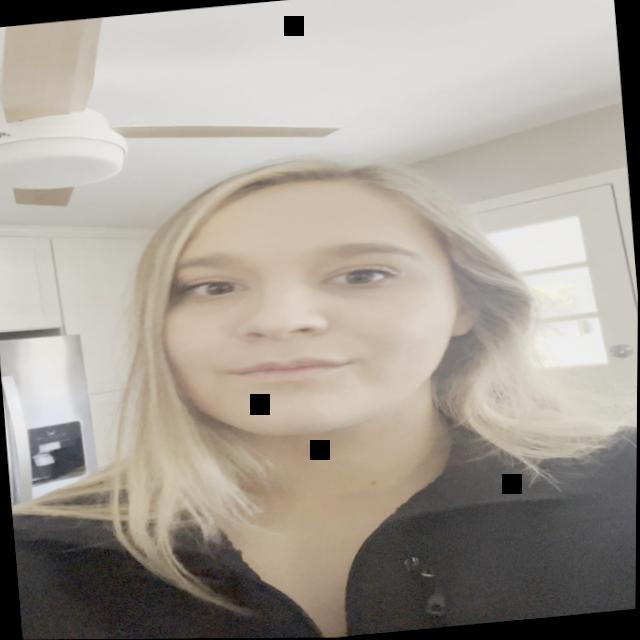NO-Mask: (113, 164, 506, 488)
